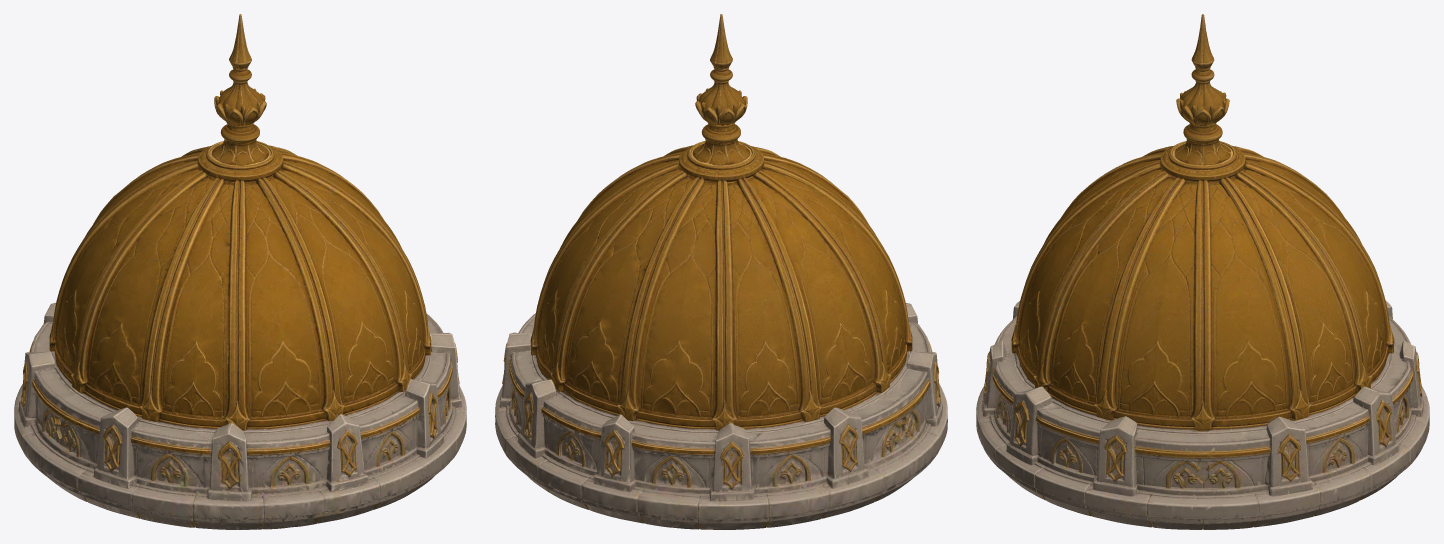
File: Meshy_AI_model.glb
3 renders of one model, left to right at view 1: azimuth 30°, elevation 25°; view 2: azimuth 150°, elevation 25°; view 3: azimuth 270°, elevation 25°, orthographic.
Visible parts, largest first — view 1: mesh_node; view 2: mesh_node; view 3: mesh_node.
Part boxes in pixels (bbox=[...]): mesh_node: bbox=[14, 14, 466, 529]; mesh_node: bbox=[495, 14, 947, 529]; mesh_node: bbox=[976, 14, 1429, 529].
Size of the model in its own units: 1.83 by 1.9 by 1.83.
Materials: 1 (1 with a texture image).
